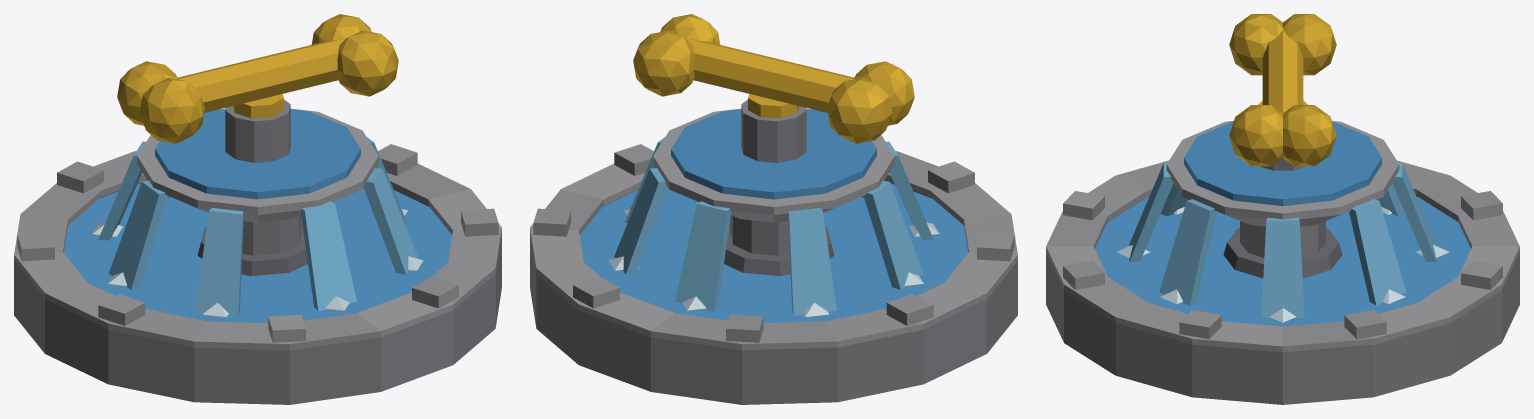
The model's file is Decor_LittleHouse_Fountain.fbx.
3 renders of one model, left to right at view 1: azimuth 30°, elevation 25°; view 2: azimuth 150°, elevation 25°; view 3: azimuth 270°, elevation 25°, orthographic. The views are drawn at different scales.
Visible parts, largest first — view 1: Fountain_Body, Fountain_Water, Fountain_Gold; view 2: Fountain_Body, Fountain_Water, Fountain_Gold; view 3: Fountain_Body, Fountain_Water, Fountain_Gold.
Boxes of the visible parts, x1,y1,x2,y2 form: Fountain_Body: (14,99,501,404); Fountain_Water: (63,109,452,322); Fountain_Gold: (117,14,398,143); Fountain_Body: (530,99,1017,404); Fountain_Water: (579,109,968,322); Fountain_Gold: (633,14,914,143); Fountain_Body: (1046,121,1519,404); Fountain_Water: (1095,121,1470,326); Fountain_Gold: (1229,14,1336,166).
Size of the model in its own units: 22 by 12.5 by 22.
